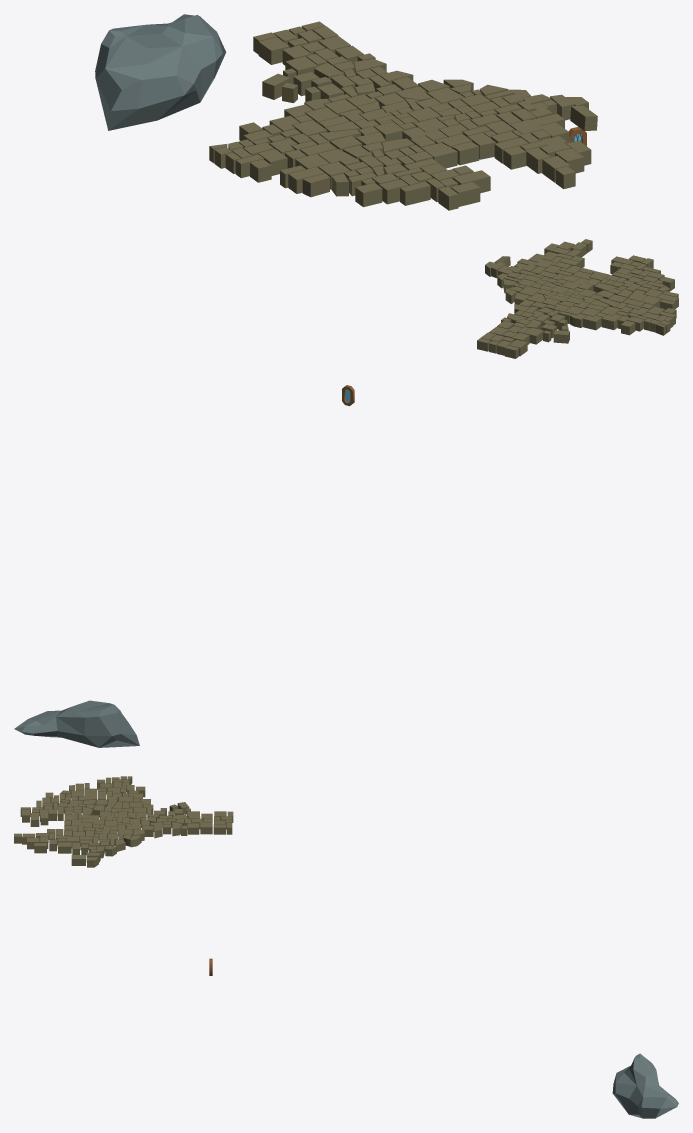
The picture shows the model from 3 angles, top to bottom: view 1: azimuth 30°, elevation 25°; view 2: azimuth 150°, elevation 25°; view 3: azimuth 270°, elevation 25°; orthographic projection. The views are drawn at different scales.
Parts seen in each view (by area): view 1: Box15580_rock2_0, Box277_rock_0; view 2: Box15580_rock2_0, Box277_rock_0; view 3: Box15580_rock2_0, Box277_rock_0.
Boxes of the visible parts, x1,y1,x2,y2 form: Box15580_rock2_0: (209,21,597,210); Box277_rock_0: (95,14,226,130); Box15580_rock2_0: (477,239,678,358); Box277_rock_0: (14,700,139,747); Box15580_rock2_0: (14,776,233,867); Box277_rock_0: (612,1053,678,1118).
Size of the model in its own units: 1985 by 1542 by 4234.
